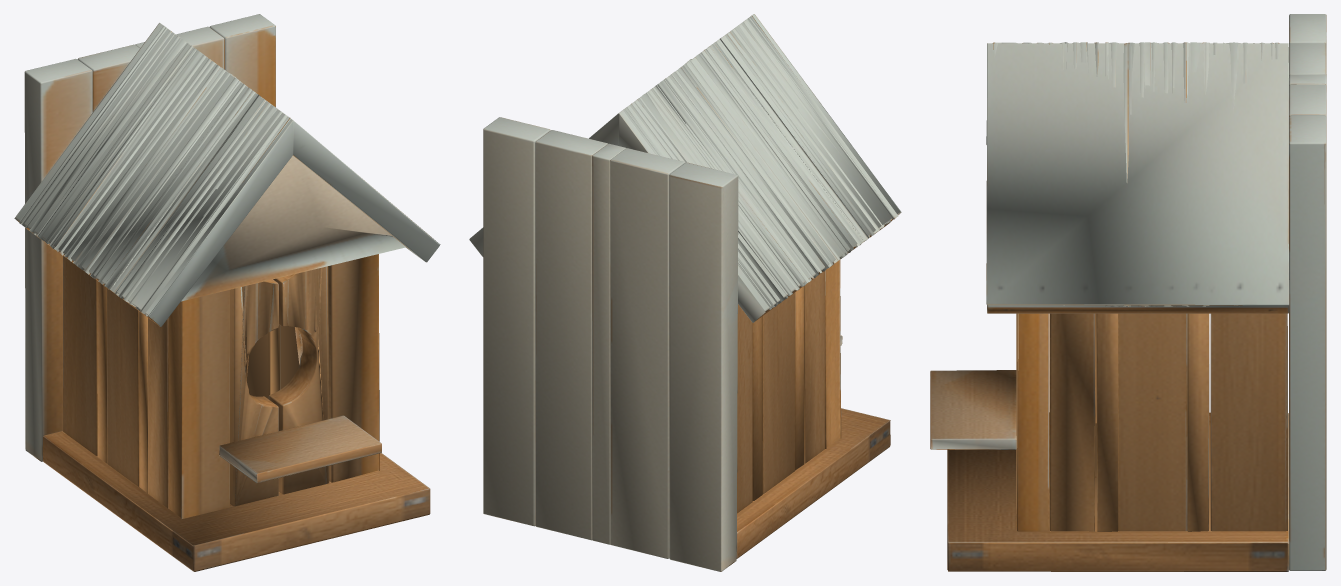
File: birdhouse.glb
3 views of the same model, side by side, from view 1: azimuth 30°, elevation 25°; view 2: azimuth 150°, elevation 25°; view 3: azimuth 270°, elevation 25° (orthographic). The views are drawn at different scales.
Visible parts, largest first — view 1: birdhouse; view 2: birdhouse; view 3: birdhouse.
Boxes of the visible parts, x1=… form: birdhouse: x1=14, y1=14, x2=440, y2=571; birdhouse: x1=469, y1=14, x2=901, y2=571; birdhouse: x1=930, y1=14, x2=1326, y2=571.
Size of the model in its own units: 0.2822 by 0.38 by 0.2935.
Materials: 1 (1 with a texture image).
